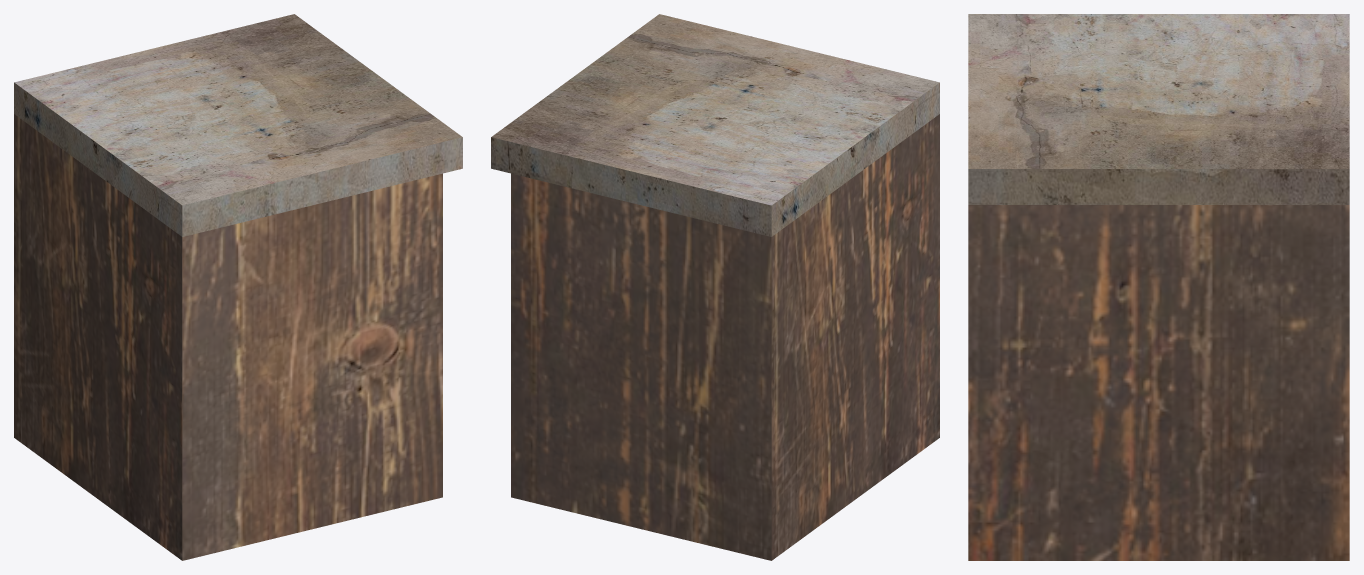
File: mesa1.fbx
The picture shows the model from 3 angles, left to right: view 1: azimuth 30°, elevation 25°; view 2: azimuth 150°, elevation 25°; view 3: azimuth 270°, elevation 25°; orthographic projection. The views are drawn at different scales.
Visible parts, largest first — view 1: Encimera_03; view 2: Encimera_03; view 3: Encimera_03.
Boxes of the visible parts, x1,y1,x2,y2 form: Encimera_03: (14,14,462,560); Encimera_03: (491,14,939,560); Encimera_03: (968,14,1349,560).
Bounding box in the file's own units: 142 × 172 × 148.
